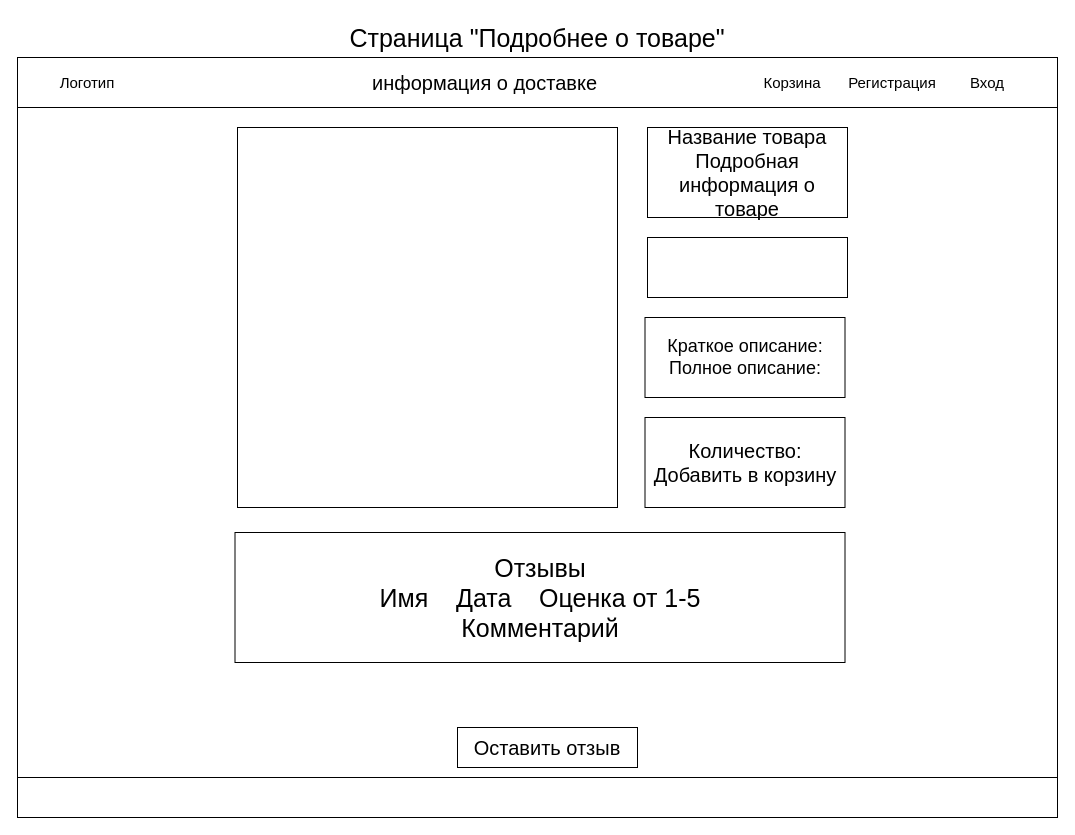
Image size: 1075x835. Some labels were removed from this diagram. Here are the shapes that lost their labels. From the top down, the box of each, then its label:
(646, 236, 848, 298): Цена товара
(236, 126, 618, 508): Изображение товара
(16, 776, 1058, 818): Футер
